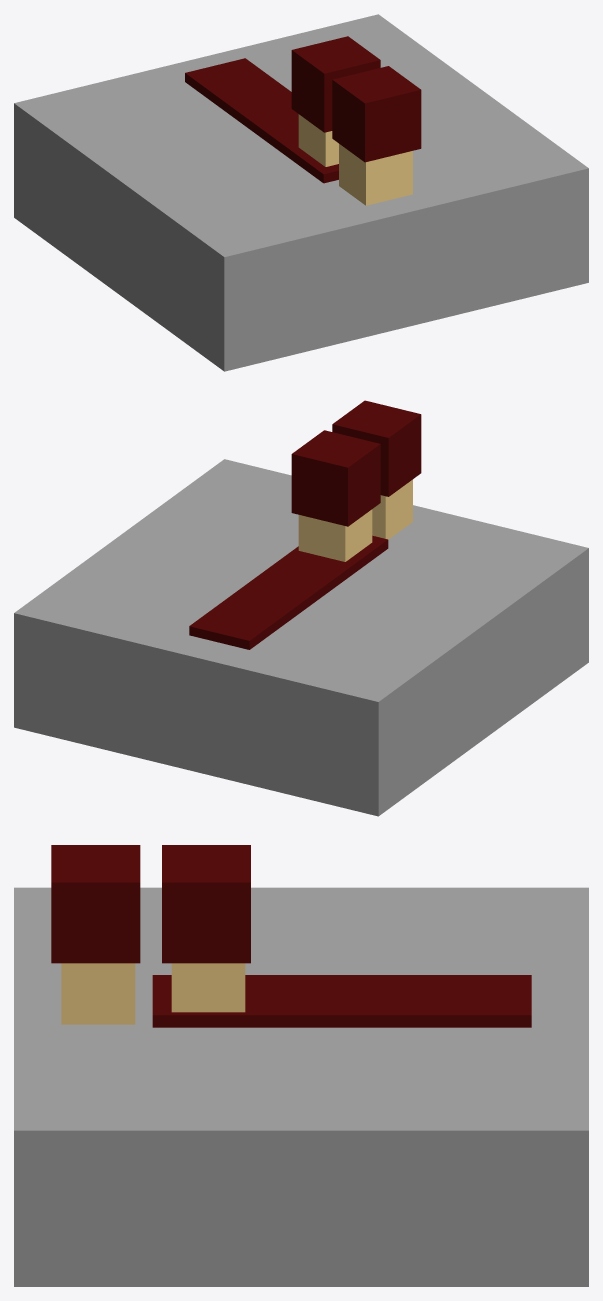
Rendered from RepeaterModel.obj.
The picture shows the model from 3 angles, top to bottom: view 1: azimuth 30°, elevation 25°; view 2: azimuth 150°, elevation 25°; view 3: azimuth 270°, elevation 25°; orthographic projection. The views are drawn at different scales.
Visible parts, largest first — view 1: virtexMap; view 2: virtexMap; view 3: virtexMap.
Boxes of the visible parts, left/top/right/bottom form: virtexMap: left=14, top=14, right=588, bottom=371; virtexMap: left=14, top=400, right=588, bottom=816; virtexMap: left=14, top=845, right=588, bottom=1286.
Bounding box in the file's own units: 1 × 0.5784 × 1.
